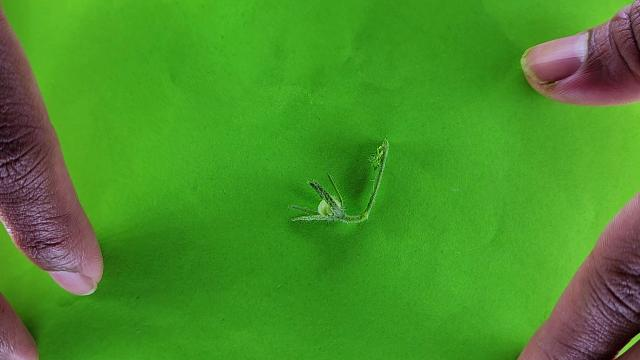Fruit Bud: (287, 177, 348, 224)
